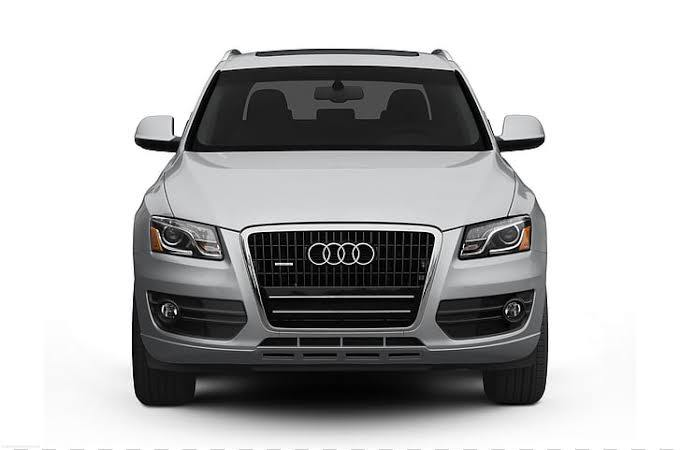audi: (115, 35, 559, 419)
